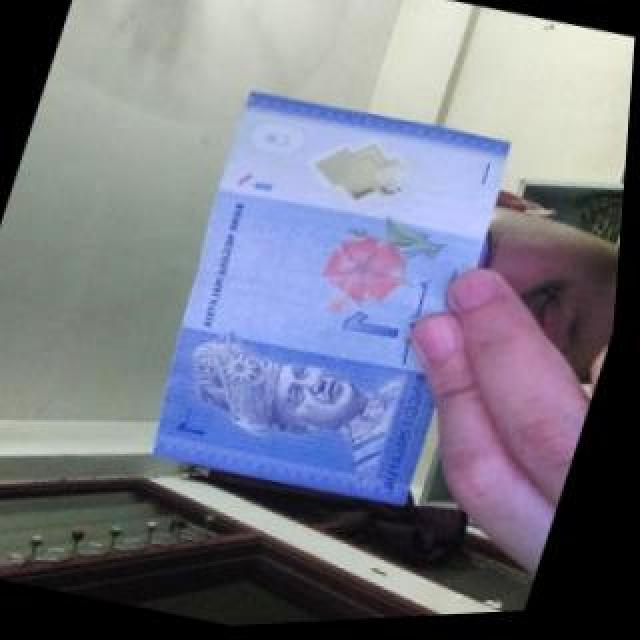1 Ringgit: (134, 76, 529, 525)
